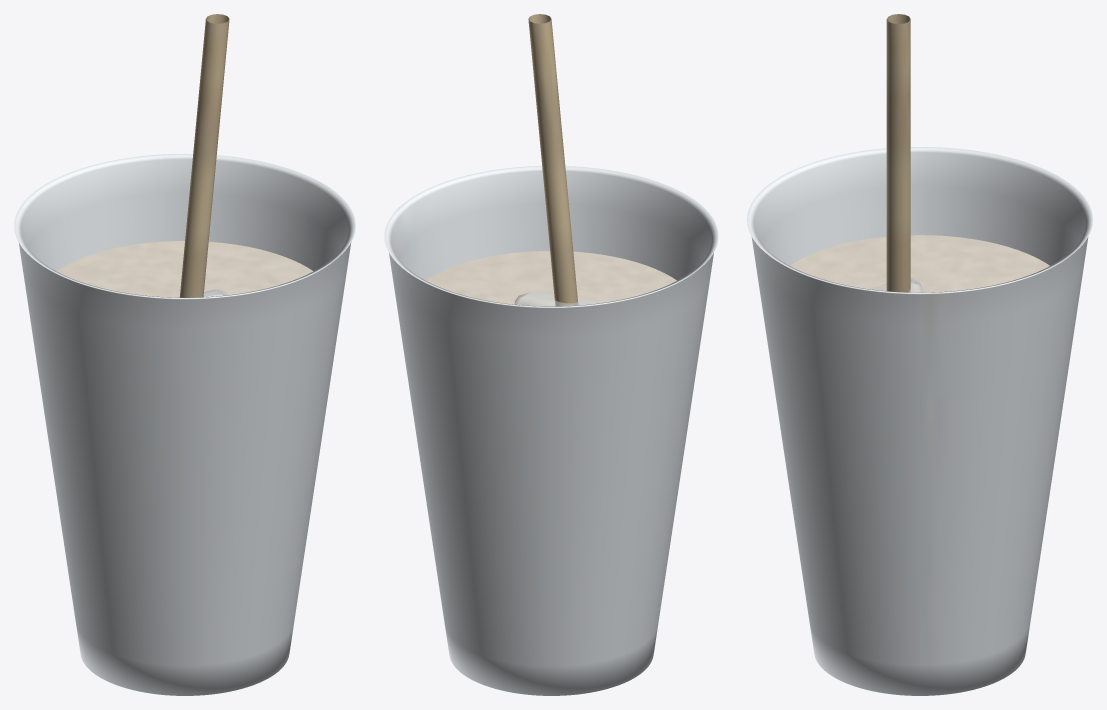
The model's file is iced-cappuccino.glb.
3 views of the same model, side by side, from view 1: azimuth 30°, elevation 25°; view 2: azimuth 150°, elevation 25°; view 3: azimuth 270°, elevation 25° (orthographic). The views are drawn at different scales.
Parts seen in each view (by area): view 1: clear, satin; view 2: clear, satin, ice; view 3: clear, satin.
Boxes of the visible parts, x1,y1,x2,y2 form: clear: (14, 153, 355, 695); satin: (56, 14, 313, 297); clear: (384, 166, 718, 695); satin: (426, 14, 676, 306); ice: (514, 290, 597, 305); clear: (747, 147, 1092, 695); satin: (790, 14, 1049, 292).
Size of the model in its own units: 0.098 by 0.201 by 0.098.
3 materials, 3 textured.
